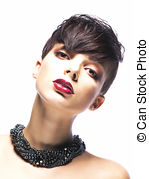face: (33, 7, 121, 124)
